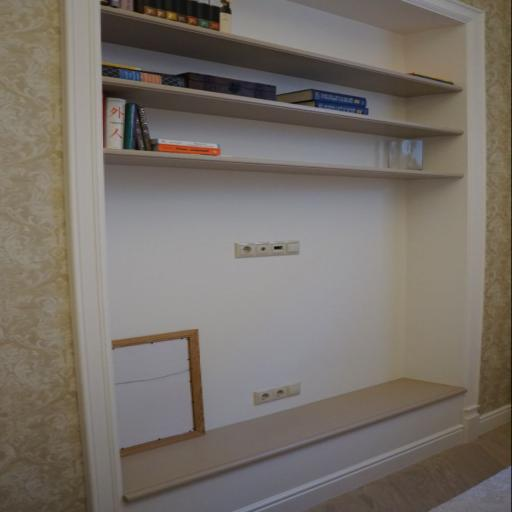bed: (104, 98, 125, 148)
road: (122, 379, 465, 501), (102, 7, 462, 97), (104, 78, 463, 138), (104, 149, 463, 179)
